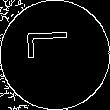L_E: (29, 38, 81, 72)
